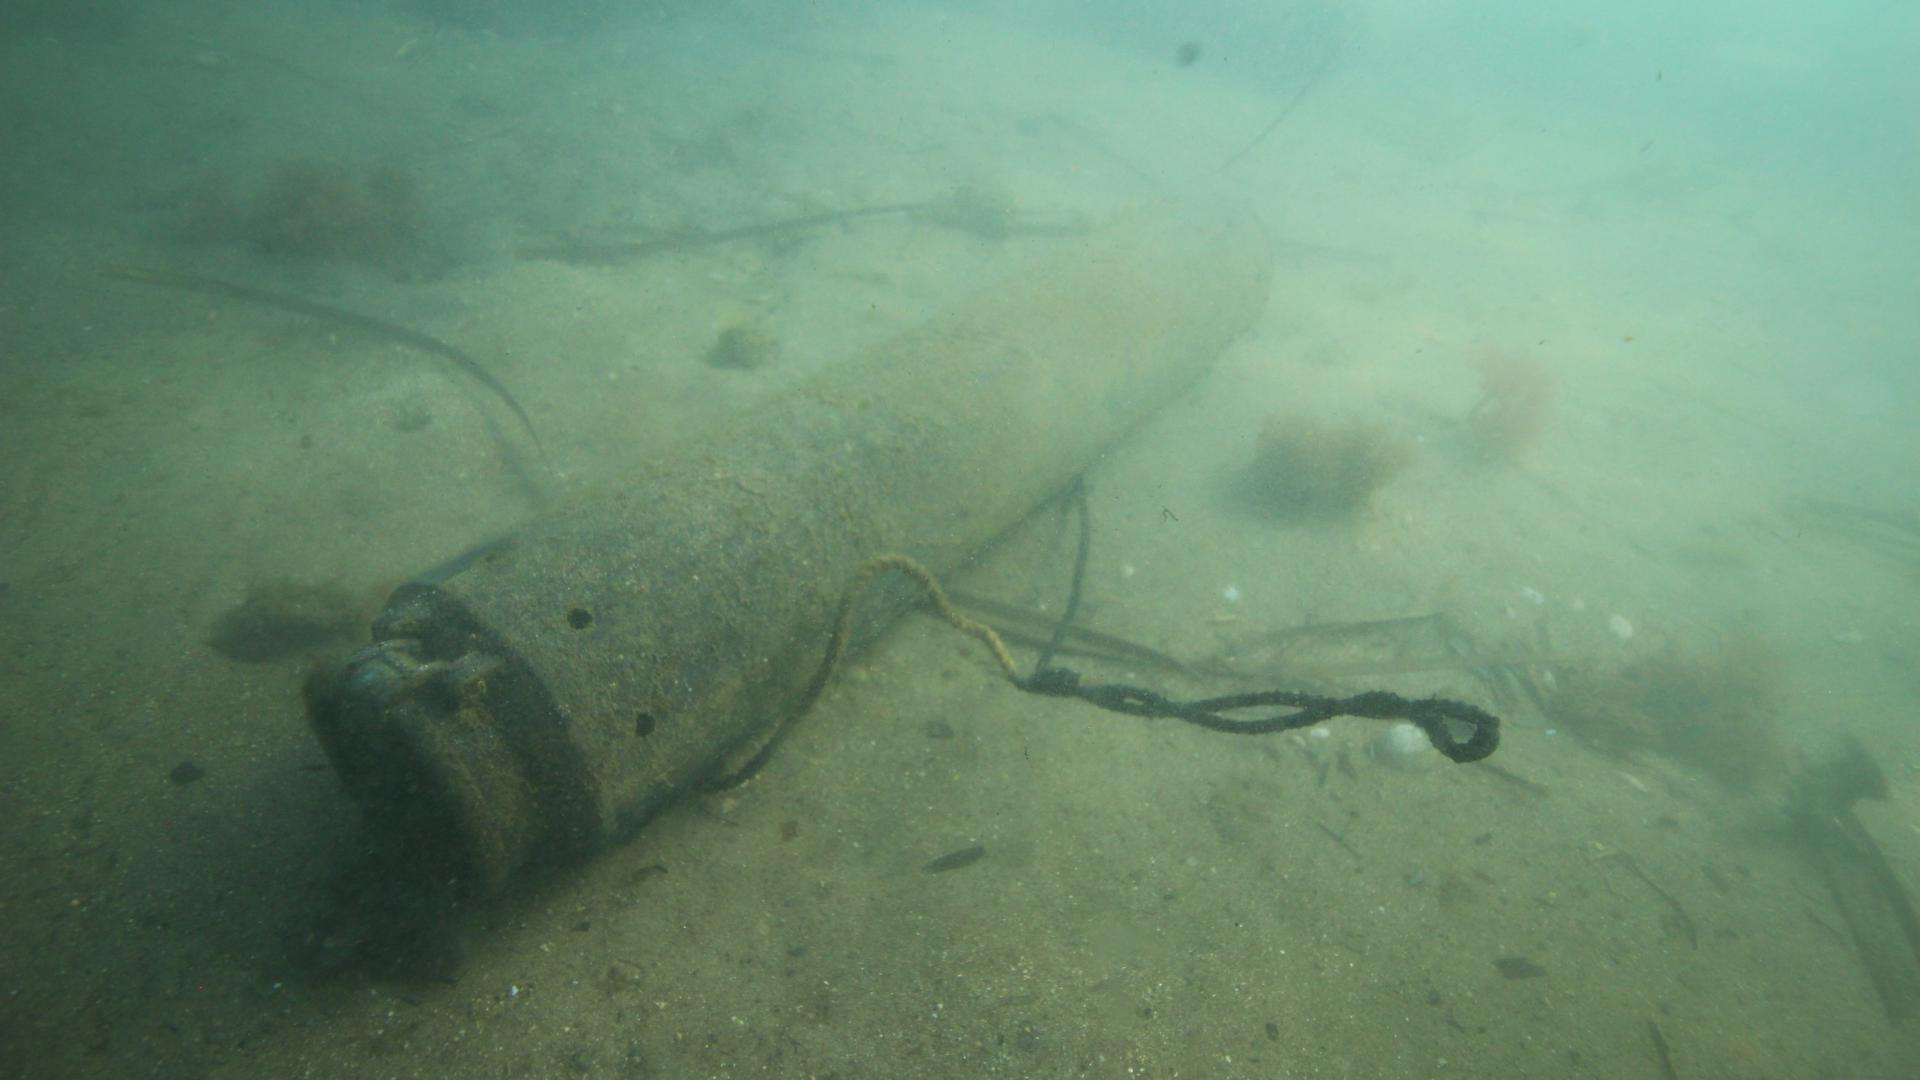bundle of ropes: (713, 473, 1503, 793)
eel fish trap: (306, 190, 1269, 910)
